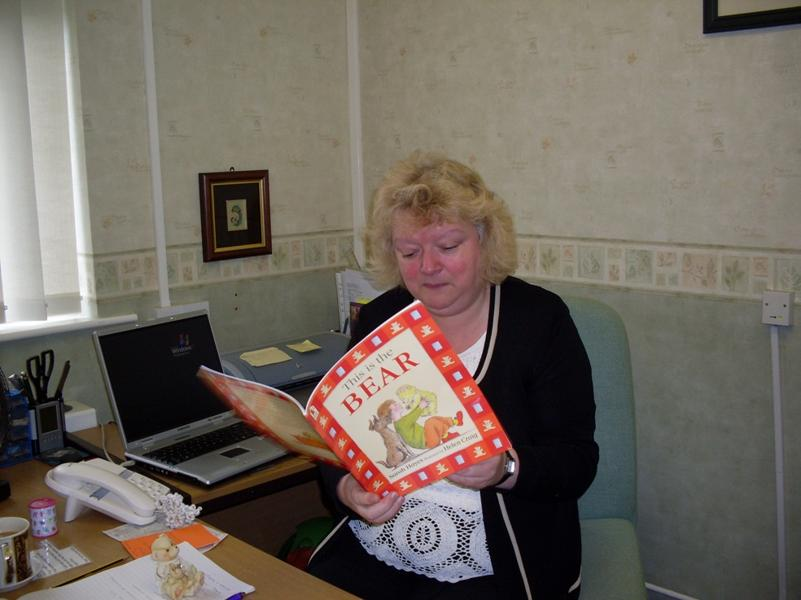person: (302, 152, 601, 599)
